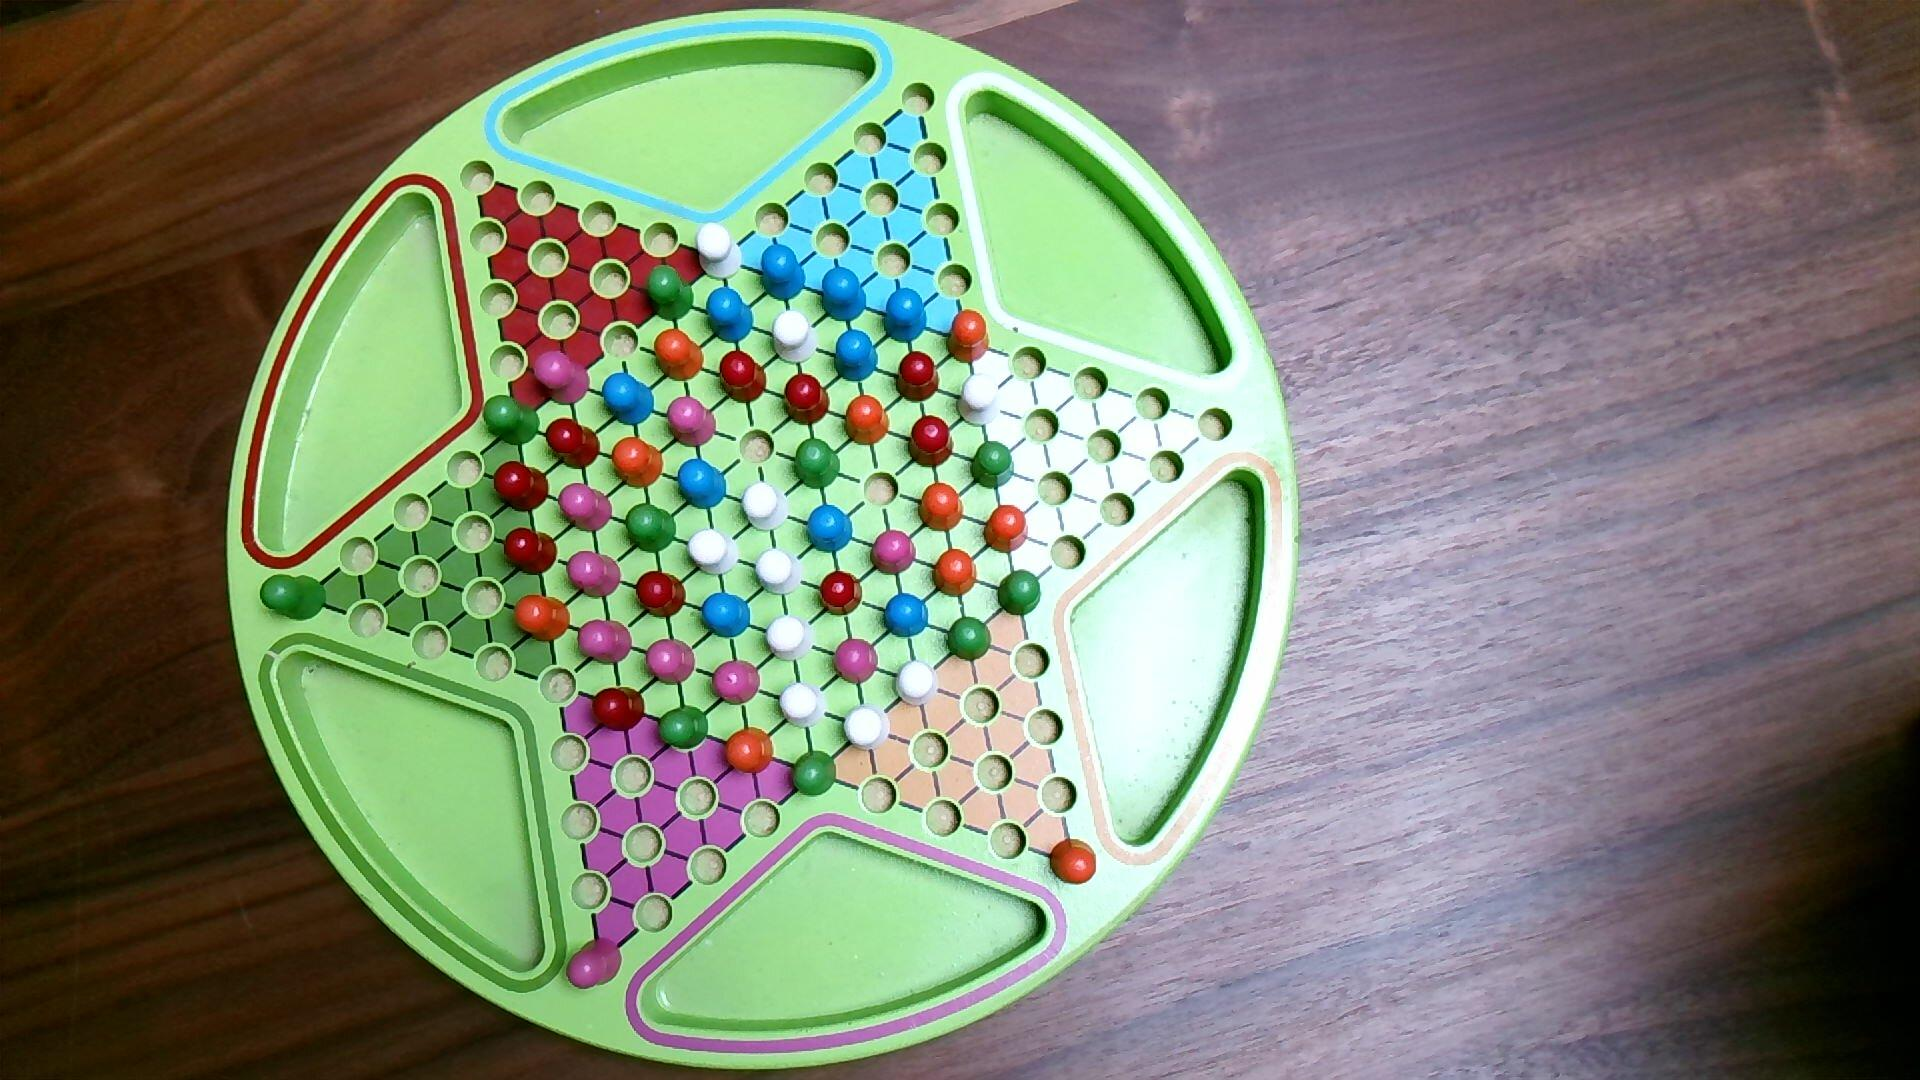B: (600, 371, 655, 429), (757, 243, 808, 305), (704, 285, 756, 345), (819, 265, 869, 324), (676, 458, 729, 512), (832, 328, 881, 385), (881, 287, 928, 345), (804, 502, 856, 555), (881, 589, 932, 641), (700, 591, 753, 641)
G: (258, 574, 330, 624), (644, 262, 698, 323), (483, 394, 542, 448), (624, 502, 679, 556), (791, 436, 843, 492), (655, 704, 709, 754), (967, 439, 1017, 491), (789, 750, 840, 799), (945, 615, 994, 665), (997, 568, 1044, 618)
O: (512, 593, 572, 644), (611, 436, 666, 491), (654, 328, 705, 382), (945, 309, 992, 367), (723, 727, 775, 777), (916, 481, 967, 534), (843, 393, 891, 447), (1048, 837, 1098, 887), (982, 502, 1030, 555), (931, 549, 978, 600)
R: (545, 415, 603, 472), (492, 460, 551, 514), (502, 526, 560, 578), (717, 348, 769, 406), (781, 371, 832, 429), (634, 568, 688, 621), (591, 684, 647, 735), (906, 413, 956, 469), (894, 348, 942, 405), (818, 568, 865, 618)
R2: (531, 349, 593, 407), (564, 935, 624, 992), (555, 481, 615, 535), (564, 549, 622, 601), (665, 396, 719, 450), (576, 618, 636, 667), (645, 636, 698, 687), (711, 659, 764, 708), (831, 637, 880, 688), (869, 529, 918, 578)
W: (695, 222, 744, 282), (771, 309, 822, 367), (764, 613, 818, 665), (686, 527, 741, 578), (741, 480, 791, 534), (956, 372, 1004, 429), (753, 546, 804, 597), (778, 680, 829, 731), (843, 702, 893, 752), (894, 658, 942, 708)
